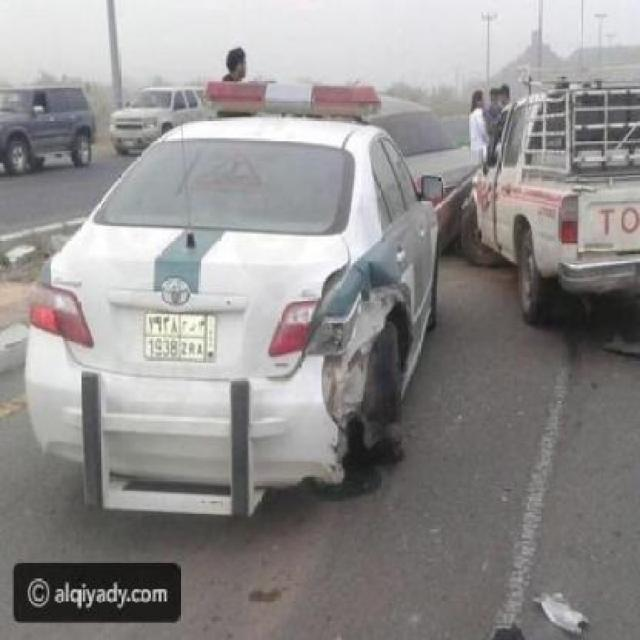license_plate: (143, 308, 220, 364)
